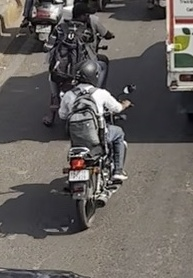BikeWithRider: (54, 58, 146, 234), (32, 0, 121, 134)
Helmet: (75, 58, 106, 86)
NoHelmet: (68, 2, 98, 21)
